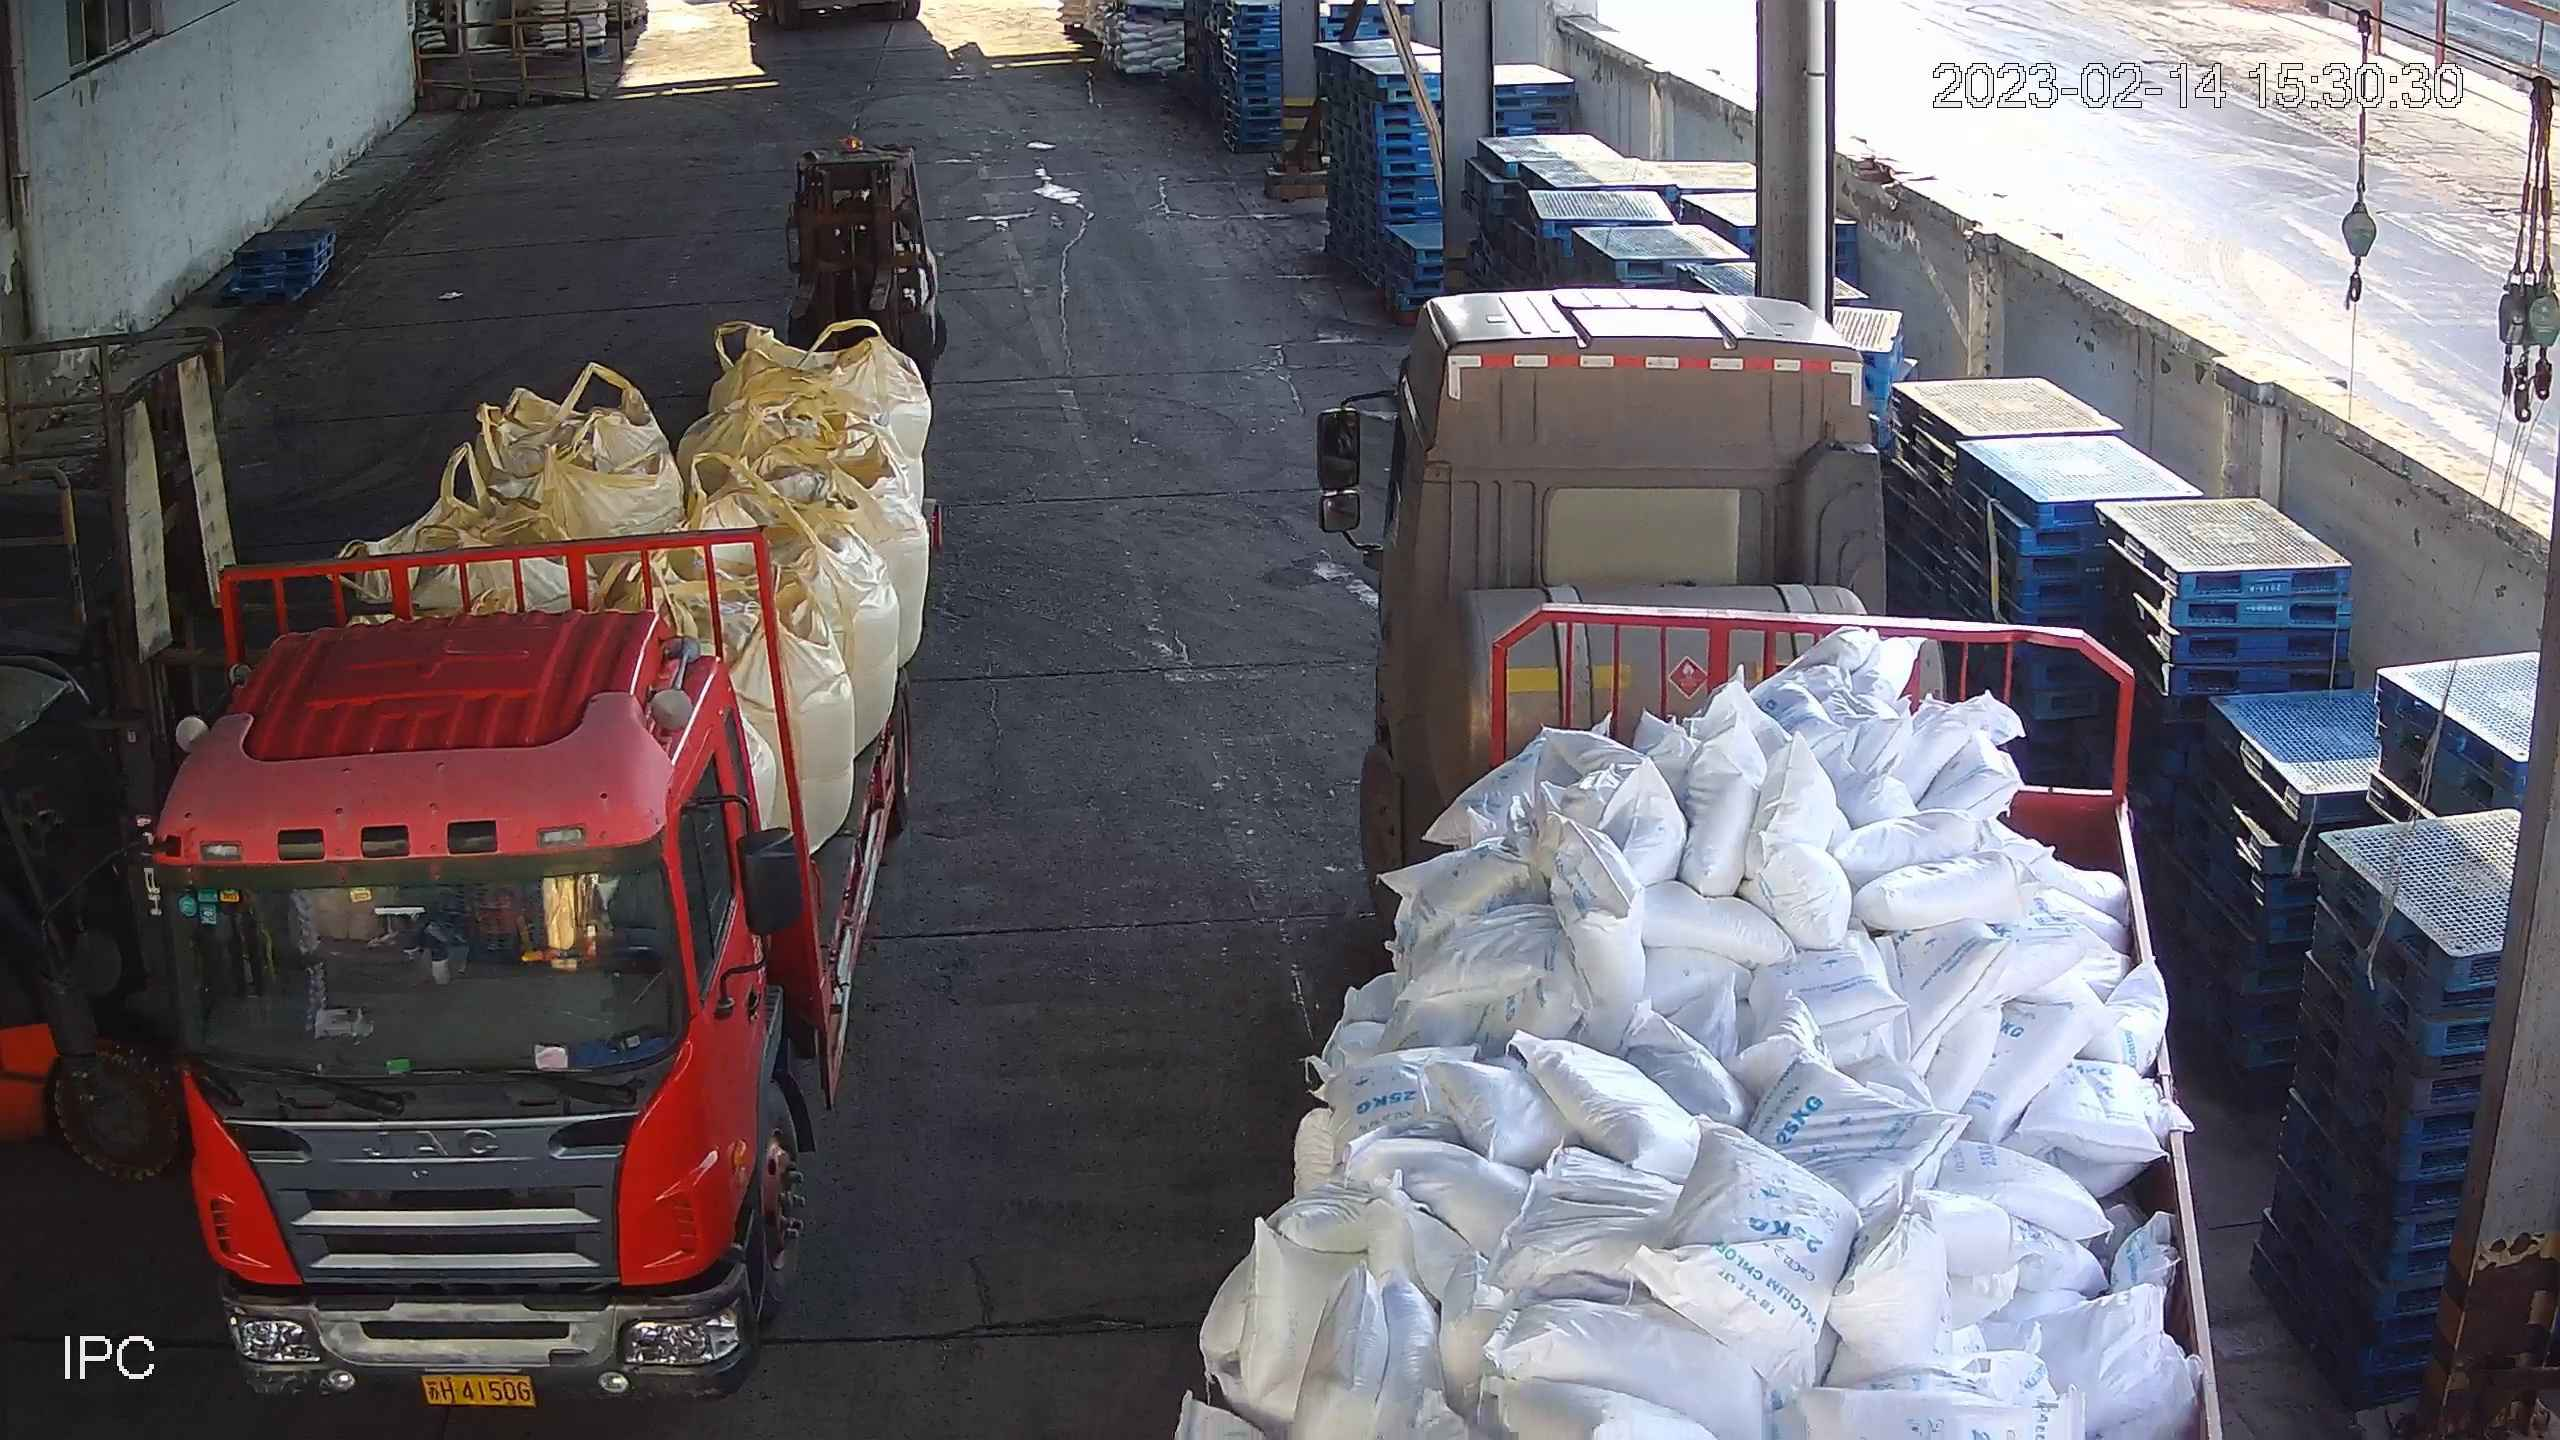truck: (1313, 290, 2221, 1440), (28, 494, 941, 1408)
